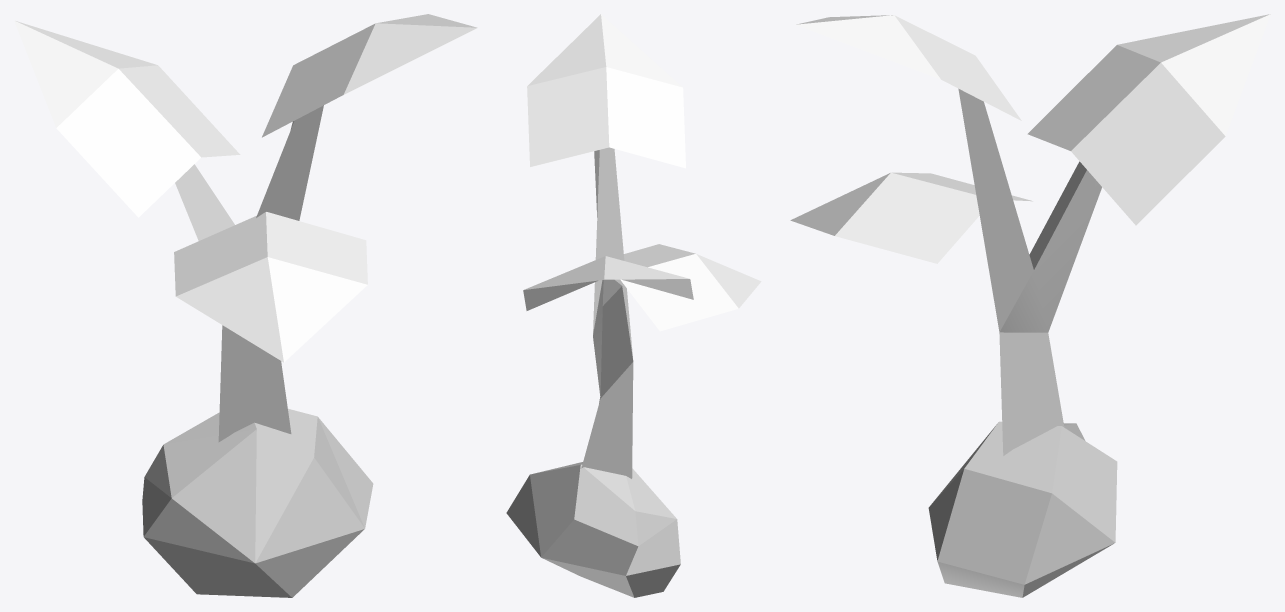
File: SM_Prop_Plant_Potato_01_S.glb
3 views of the same model, side by side, from view 1: azimuth 30°, elevation 25°; view 2: azimuth 150°, elevation 25°; view 3: azimuth 270°, elevation 25° (orthographic). The views are drawn at different scales.
Parts seen in each view (by area): view 1: SM_Prop_Plant_Potato_01_S; view 2: SM_Prop_Plant_Potato_01_S; view 3: SM_Prop_Plant_Potato_01_S.
Part boxes in pixels (left/top/right/bottom): SM_Prop_Plant_Potato_01_S: left=14, top=14, right=477, bottom=597; SM_Prop_Plant_Potato_01_S: left=506, top=14, right=761, bottom=597; SM_Prop_Plant_Potato_01_S: left=790, top=14, right=1270, bottom=597.
Size of the model in its own units: 0.1868 by 0.3714 by 0.262.
Materials: 2 (1 with a texture image).
